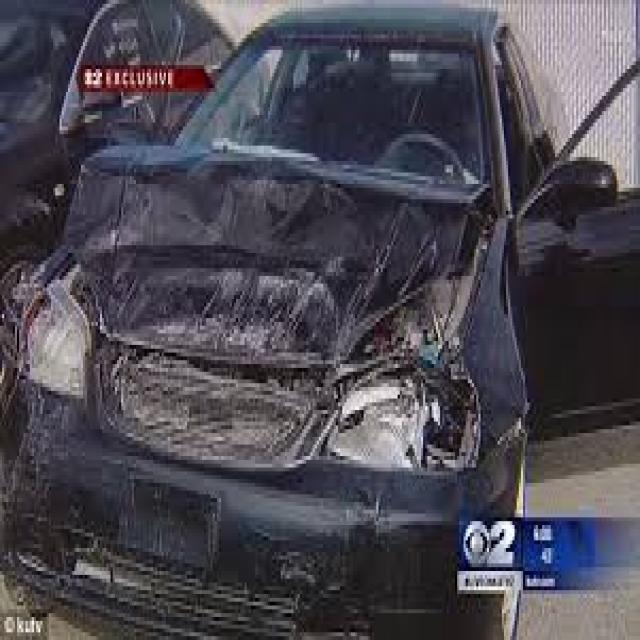moderate: (11, 94, 476, 564)
